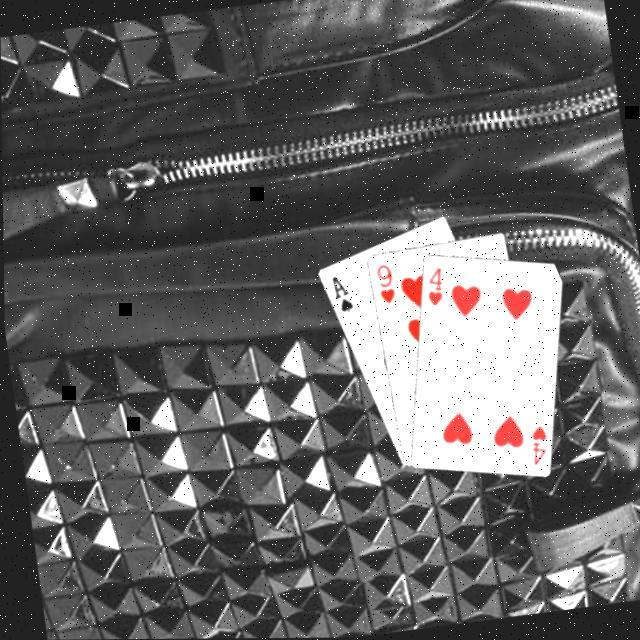4H: (524, 420, 552, 468), (420, 262, 448, 308)
9H: (371, 259, 398, 307)
AS: (326, 268, 356, 316)
